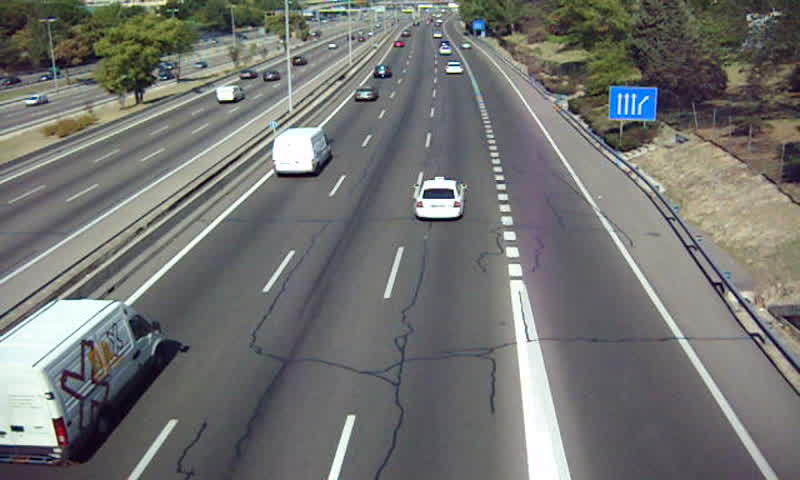car: (414, 179, 466, 218), (352, 86, 376, 105), (374, 63, 393, 80), (444, 61, 464, 75)
van: (1, 300, 164, 464), (272, 128, 330, 177)
